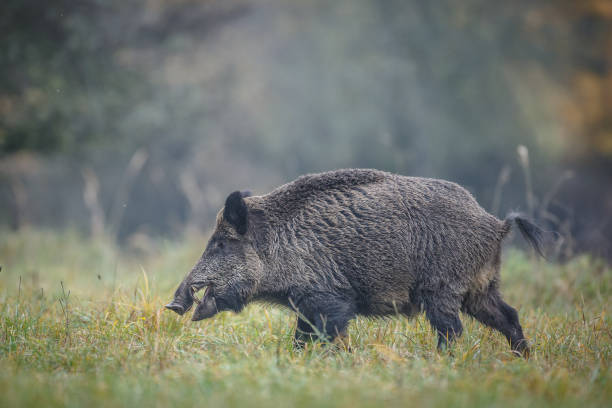pig: (167, 169, 550, 367)
